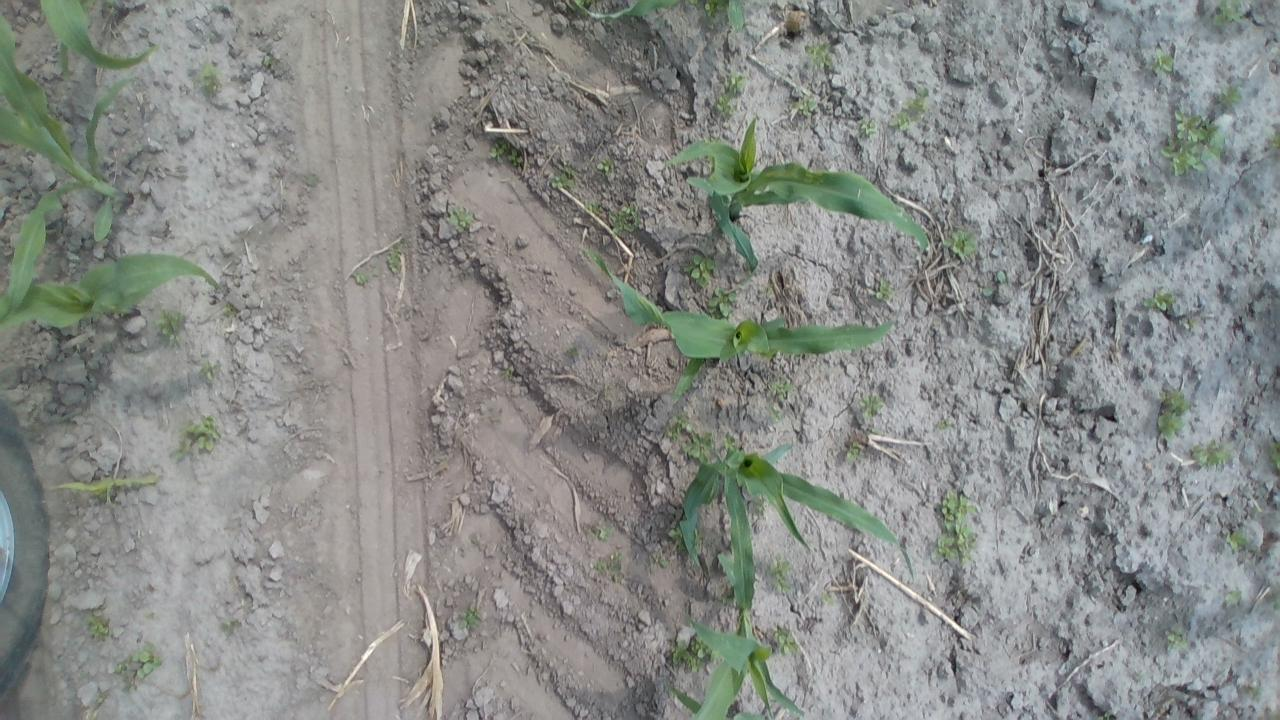Maize: (580, 246, 902, 402), (671, 437, 919, 626), (1, 16, 151, 318), (665, 113, 936, 280), (0, 237, 229, 339), (672, 604, 804, 720), (33, 0, 158, 74), (563, 0, 743, 29)
Weeds: (1159, 105, 1226, 180), (932, 489, 978, 566), (171, 412, 224, 459), (111, 642, 164, 686), (1154, 386, 1194, 444), (1188, 435, 1236, 473), (667, 636, 708, 672), (608, 200, 646, 237), (766, 552, 797, 596), (192, 62, 228, 98), (942, 226, 978, 262), (684, 252, 718, 286), (706, 286, 740, 320), (155, 308, 187, 344), (681, 430, 716, 462), (486, 138, 522, 168), (1208, 0, 1246, 28), (84, 607, 116, 640), (446, 201, 476, 235), (856, 391, 886, 425), (594, 550, 627, 580), (1141, 285, 1176, 313), (714, 84, 742, 118), (550, 162, 580, 192), (980, 268, 1010, 297), (790, 90, 819, 120), (771, 625, 799, 656), (908, 82, 932, 118), (1214, 82, 1244, 110), (806, 41, 834, 70), (666, 412, 694, 441), (458, 602, 483, 634), (1225, 528, 1252, 555), (1149, 48, 1177, 74), (768, 376, 796, 402), (386, 244, 408, 276), (1162, 629, 1191, 653), (698, 0, 728, 23), (721, 70, 746, 97), (874, 276, 898, 304), (842, 439, 866, 466), (590, 518, 616, 542), (198, 358, 220, 386), (256, 53, 282, 76), (890, 110, 914, 133), (857, 114, 878, 138), (1222, 587, 1244, 608), (666, 524, 686, 546), (352, 266, 372, 288), (596, 155, 616, 177), (646, 550, 668, 570), (218, 301, 240, 320), (219, 616, 239, 636), (932, 416, 954, 434), (768, 404, 788, 423), (583, 198, 604, 216), (1264, 128, 1277, 156), (1264, 440, 1276, 470), (721, 436, 739, 454), (754, 496, 768, 517), (140, 606, 158, 622), (820, 590, 837, 606), (500, 364, 516, 380), (566, 346, 584, 360)
